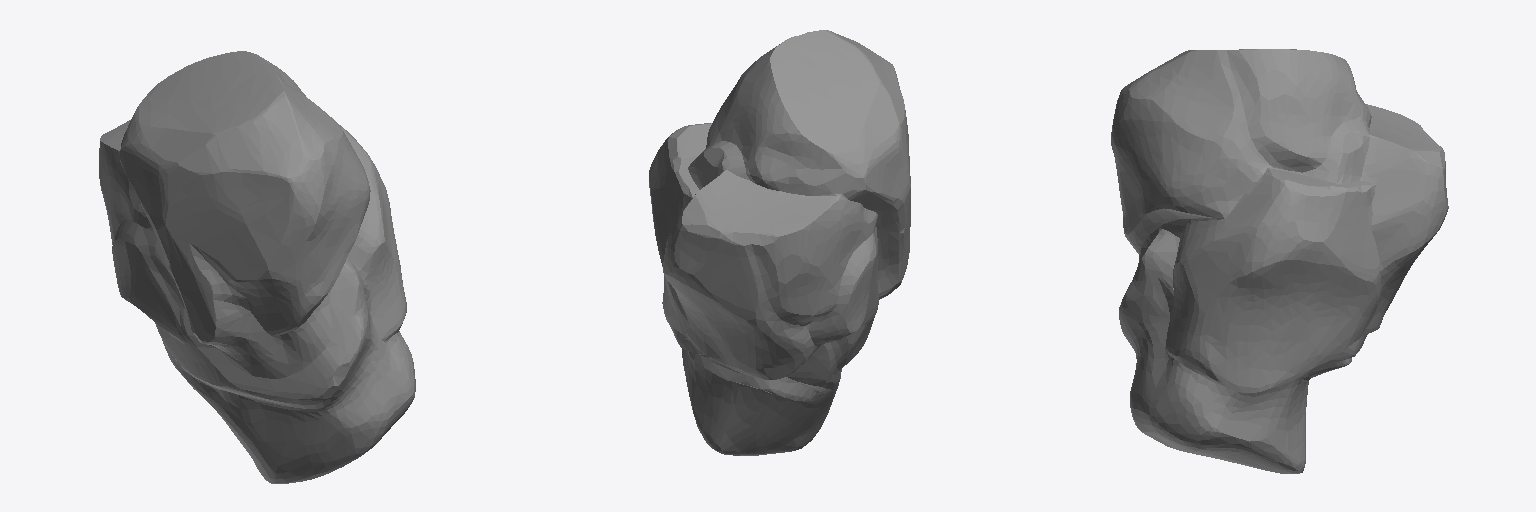
File: Cliff_Big_03.obj
The picture shows the model from 3 angles: view 1: azimuth 30°, elevation 25°; view 2: azimuth 150°, elevation 25°; view 3: azimuth 270°, elevation 25°; orthographic projection.
Parts seen in each view (by area): view 1: g Group21058_Group21058; view 2: g Group21058_Group21058; view 3: g Group21058_Group21058.
Part boxes in pixels (left/top/right/bottom): g Group21058_Group21058: left=99, top=51, right=415, bottom=483; g Group21058_Group21058: left=649, top=30, right=910, bottom=455; g Group21058_Group21058: left=1111, top=49, right=1448, bottom=473.
Bounding box in the file's own units: 0.5615 × 0.9301 × 0.6927.